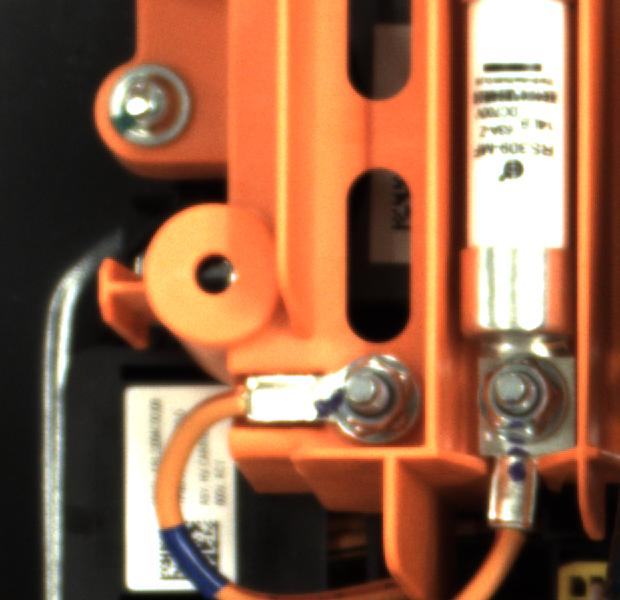screw_m: (100, 58, 201, 146)
screw_s: (313, 347, 421, 439), (478, 349, 579, 447)
